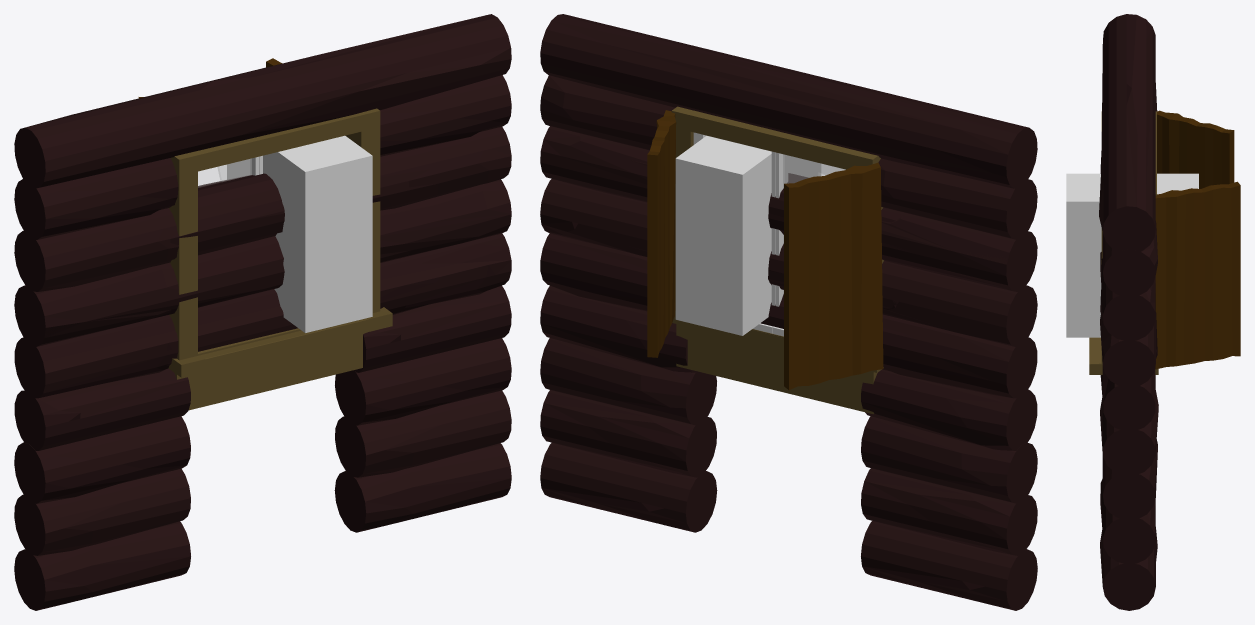
File: murporte.fbx
3 renders of one model, left to right at view 1: azimuth 30°, elevation 25°; view 2: azimuth 150°, elevation 25°; view 3: azimuth 270°, elevation 25°, orthographic. The views are drawn at different scales.
Parts seen in each view (by area): view 1: Cylinder.016, Cube, Cube.001, Cylinder.010, Cylinder.011, Cylinder.009, Cube.006; view 2: Cylinder.016, Cube.003, Cube.001, Cube, Cylinder.011, Cylinder.009, Cylinder.010, Cube.004, Cube.002, Cube.006, Cube.007; view 3: Cylinder.016, Cube.004, Cube.001, Cube.003, Cube, Cylinder.011.
Part boxes in pixels (left/top/right/bottom): Cylinder.016: left=14, top=14, right=511, bottom=610; Cube: left=168, top=108, right=392, bottom=410; Cube.001: left=227, top=135, right=372, bottom=332; Cylinder.010: left=14, top=126, right=511, bottom=291; Cylinder.011: left=14, top=234, right=511, bottom=398; Cylinder.009: left=14, top=205, right=509, bottom=346; Cube.006: left=198, top=159, right=251, bottom=187; Cylinder.016: left=540, top=14, right=1037, bottom=610; Cube.003: left=784, top=162, right=883, bottom=389; Cube.001: left=675, top=135, right=821, bottom=335; Cube: left=671, top=106, right=883, bottom=414; Cylinder.011: left=540, top=233, right=1037, bottom=398; Cylinder.009: left=540, top=179, right=1037, bottom=346; Cylinder.010: left=540, top=126, right=1037, bottom=291; Cube.004: left=647, top=110, right=676, bottom=357; Cube.002: left=693, top=132, right=845, bottom=336; Cube.006: left=783, top=155, right=844, bottom=294; Cube.007: left=783, top=155, right=844, bottom=188; Cylinder.016: left=1099, top=14, right=1158, bottom=610; Cube.004: left=1155, top=181, right=1240, bottom=369; Cube.001: left=1066, top=173, right=1198, bottom=337; Cube.003: left=1157, top=110, right=1234, bottom=188; Cube: left=1089, top=111, right=1158, bottom=374; Cylinder.011: left=1102, top=360, right=1155, bottom=401.
Size of the model in its own units: 1712 by 1689 by 656.
